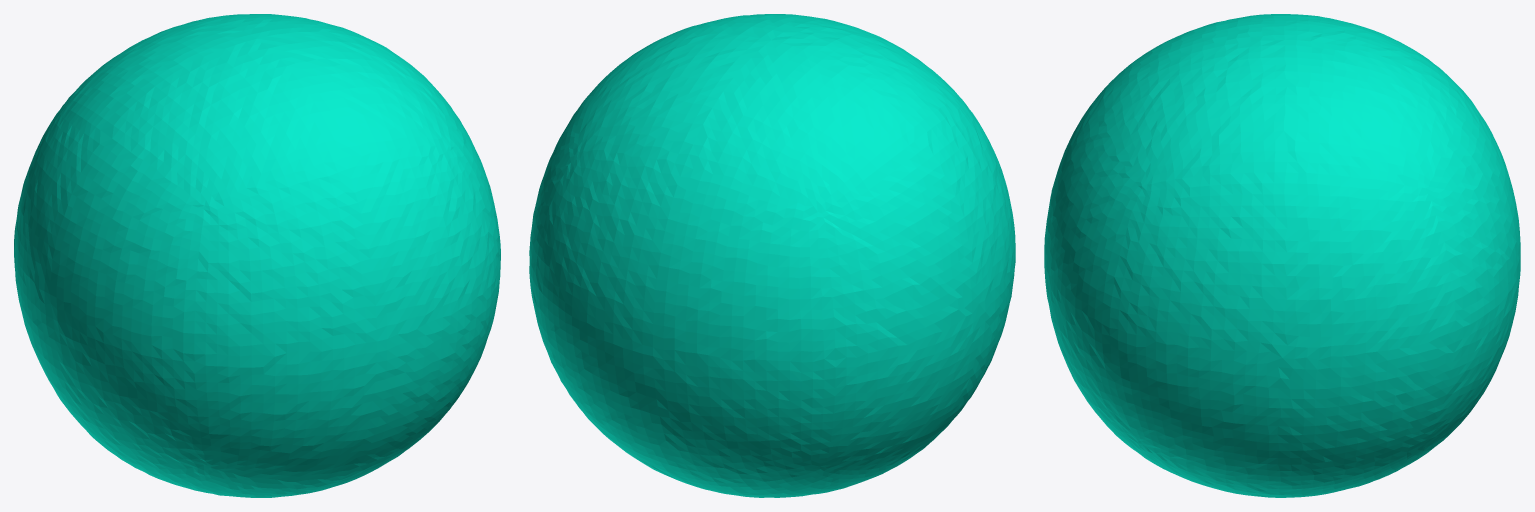
The model's file is Sea11.fbx.
The picture shows the model from 3 angles, left to right: view 1: azimuth 30°, elevation 25°; view 2: azimuth 150°, elevation 25°; view 3: azimuth 270°, elevation 25°; orthographic projection.
Parts seen in each view (by area): view 1: pCube1; view 2: pCube1; view 3: pCube1.
Boxes of the visible parts, bbox=[...] form: pCube1: bbox=[14, 14, 500, 497]; pCube1: bbox=[529, 14, 1015, 497]; pCube1: bbox=[1044, 14, 1520, 497].
Size of the model in its own units: 40.25 by 40.24 by 40.24.
